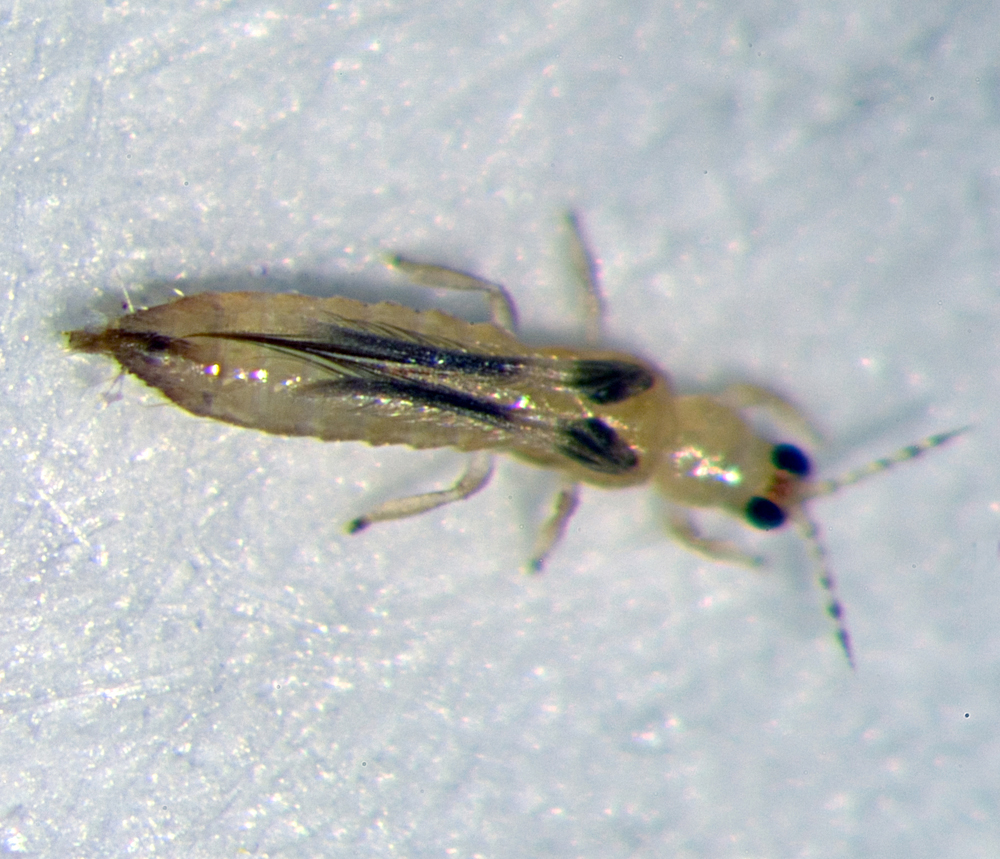Thrips: (80, 217, 977, 672)
